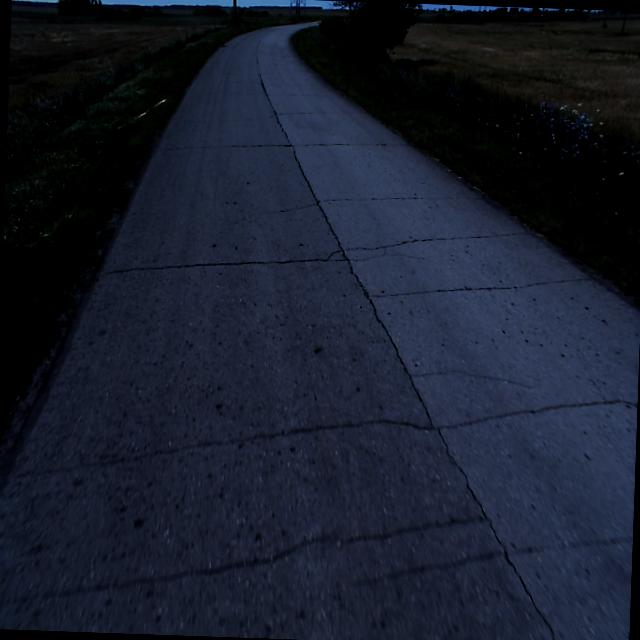road: (0, 21, 640, 640)
